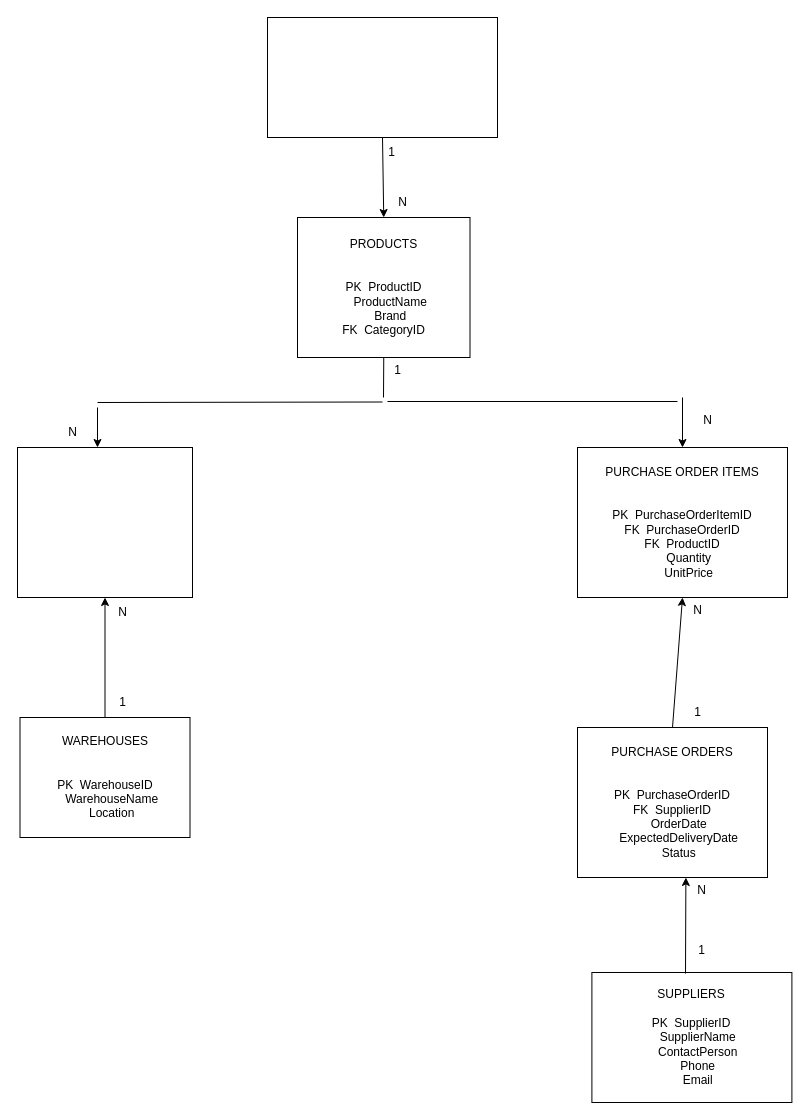
This 810x1120 diagram has some shape labels left out. Each missing label, with the centre of its shape:
"CATEGORIES PK CategoryID CategoryName" belongs at (x=382, y=77).
"INVENTORY PK InventoryID FK ProductID FK WarehouseID CurrentStock ReorderLevel" belongs at (x=104, y=522).
